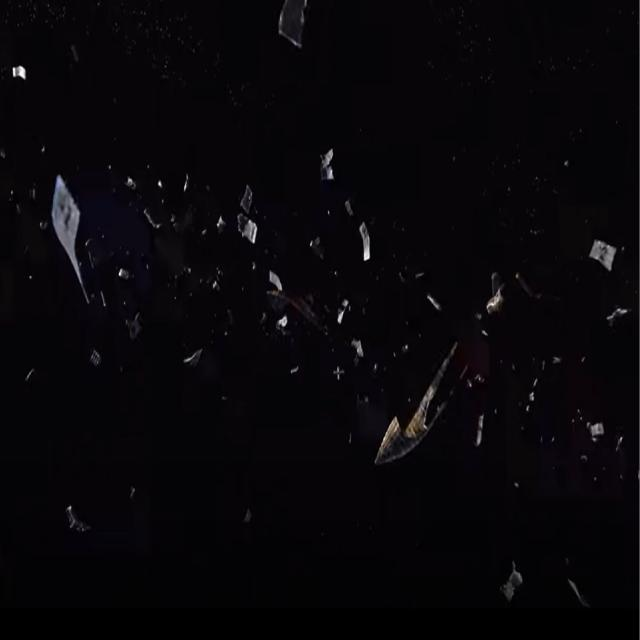large_debris: (370, 337, 465, 473), (49, 172, 96, 319), (343, 198, 382, 284), (275, 0, 320, 51), (264, 289, 326, 322), (238, 187, 260, 264), (589, 236, 627, 274), (501, 558, 532, 600), (176, 342, 221, 367), (603, 294, 633, 331), (524, 375, 548, 417), (66, 497, 91, 535), (316, 146, 338, 186), (289, 357, 316, 387), (580, 418, 610, 443), (485, 283, 504, 318), (123, 304, 141, 340), (352, 334, 372, 366), (474, 406, 486, 458), (334, 298, 356, 326), (565, 573, 585, 602), (142, 204, 162, 228), (426, 292, 451, 310), (10, 62, 30, 84), (123, 171, 140, 195), (62, 43, 82, 62), (270, 272, 290, 290), (116, 263, 132, 283), (99, 288, 115, 308), (90, 346, 102, 370), (209, 271, 225, 288), (181, 174, 195, 192), (210, 217, 221, 235), (152, 175, 168, 187), (281, 312, 287, 330), (25, 365, 34, 373)
